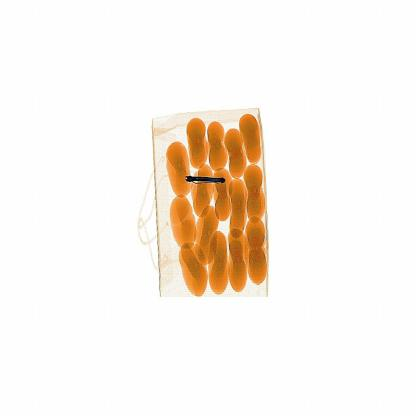knife: (183, 171, 231, 189)
